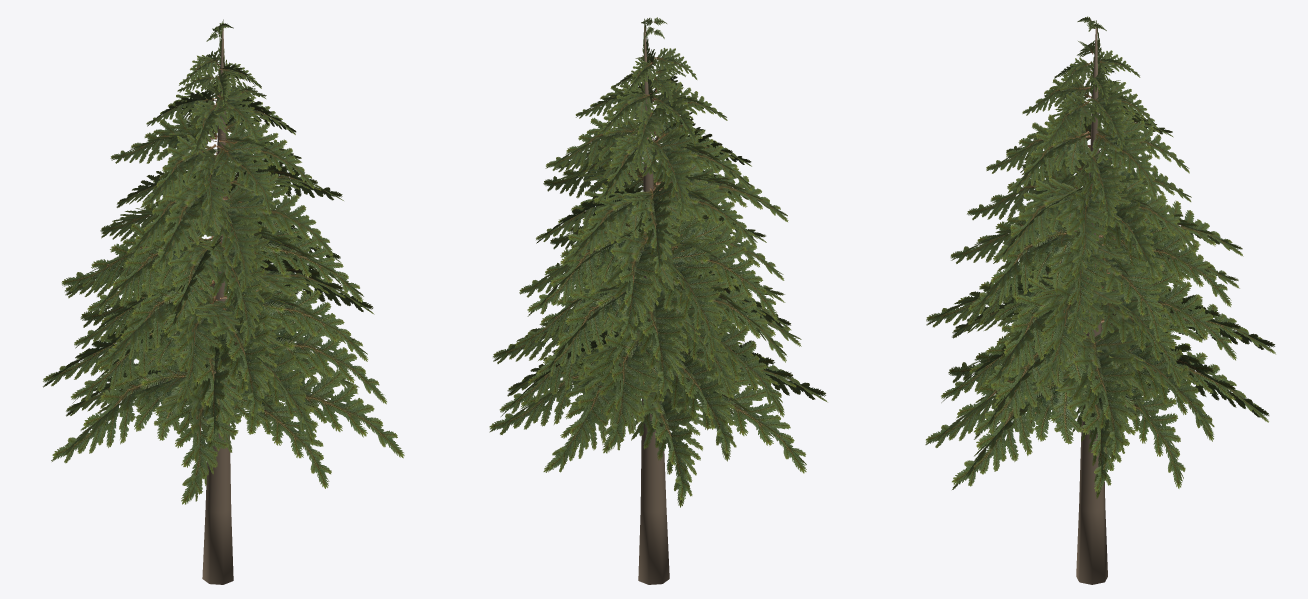
File: spruce.glb
The picture shows the model from 3 angles, left to right: view 1: azimuth 30°, elevation 25°; view 2: azimuth 150°, elevation 25°; view 3: azimuth 270°, elevation 25°; orthographic projection.
Parts seen in each view (by area): view 1: SPRUCE_CROWN_LOD0, SPRUCE_TRUNK_LOD0; view 2: SPRUCE_CROWN_LOD0, SPRUCE_TRUNK_LOD0; view 3: SPRUCE_CROWN_LOD0, SPRUCE_TRUNK_LOD0.
Boxes of the visible parts, x1,y1,x2,y2 form: SPRUCE_CROWN_LOD0: (43, 19, 404, 504); SPRUCE_TRUNK_LOD0: (202, 28, 233, 584); SPRUCE_CROWN_LOD0: (489, 17, 827, 507); SPRUCE_TRUNK_LOD0: (638, 27, 669, 584); SPRUCE_CROWN_LOD0: (925, 16, 1275, 498); SPRUCE_TRUNK_LOD0: (1076, 27, 1107, 584).
Bounding box in the file's own units: 6.81 × 10.65 × 6.9.
2 materials, 1 textured.
